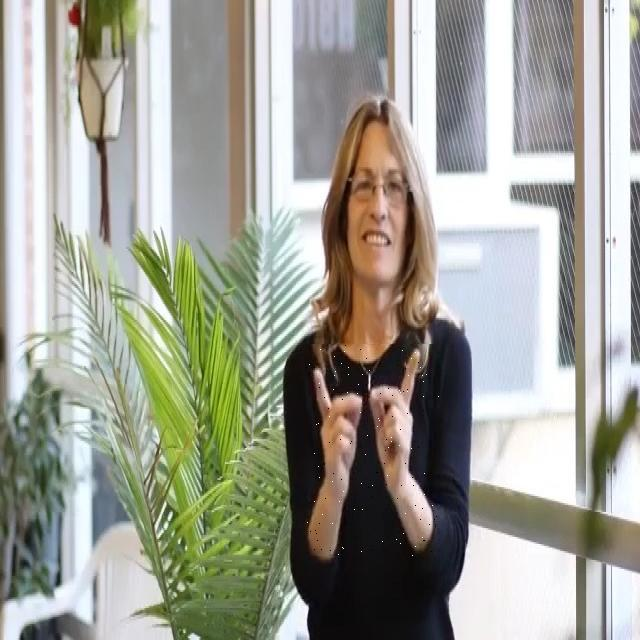sweet: (306, 344, 440, 556)
